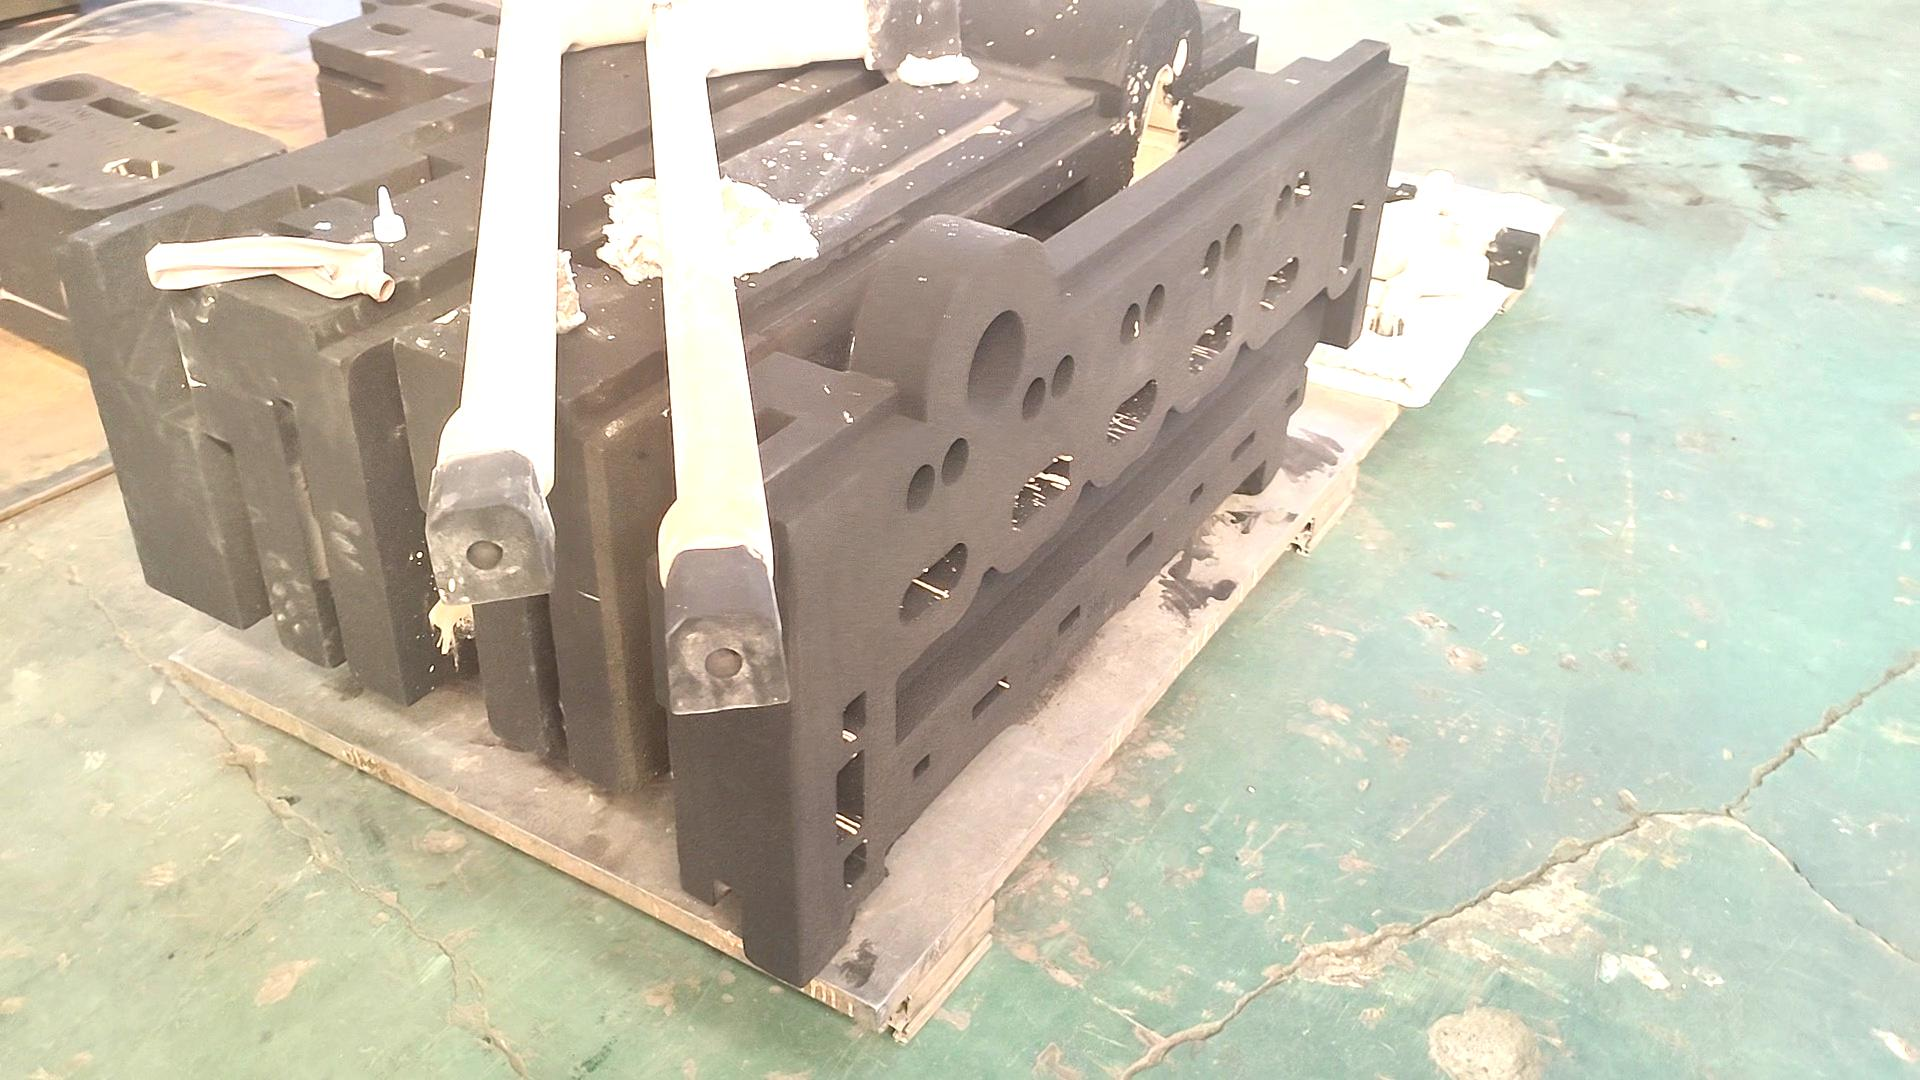pouring hole: (967, 309, 1026, 418), (29, 78, 98, 102), (373, 1, 425, 8)
